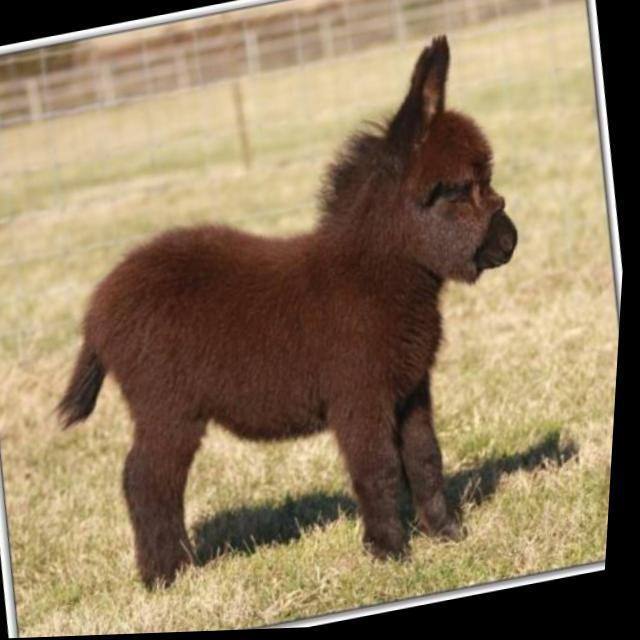Donkey: (3, 25, 585, 639)
